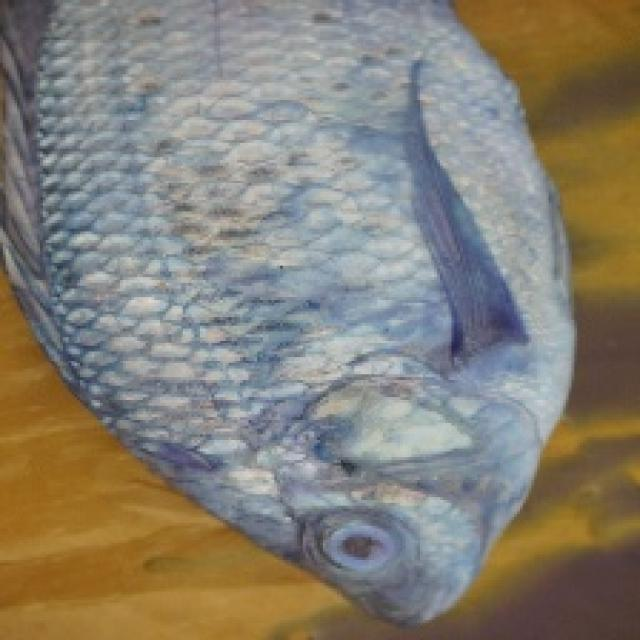Non-Fresh: (59, 9, 539, 462), (312, 509, 416, 593)
